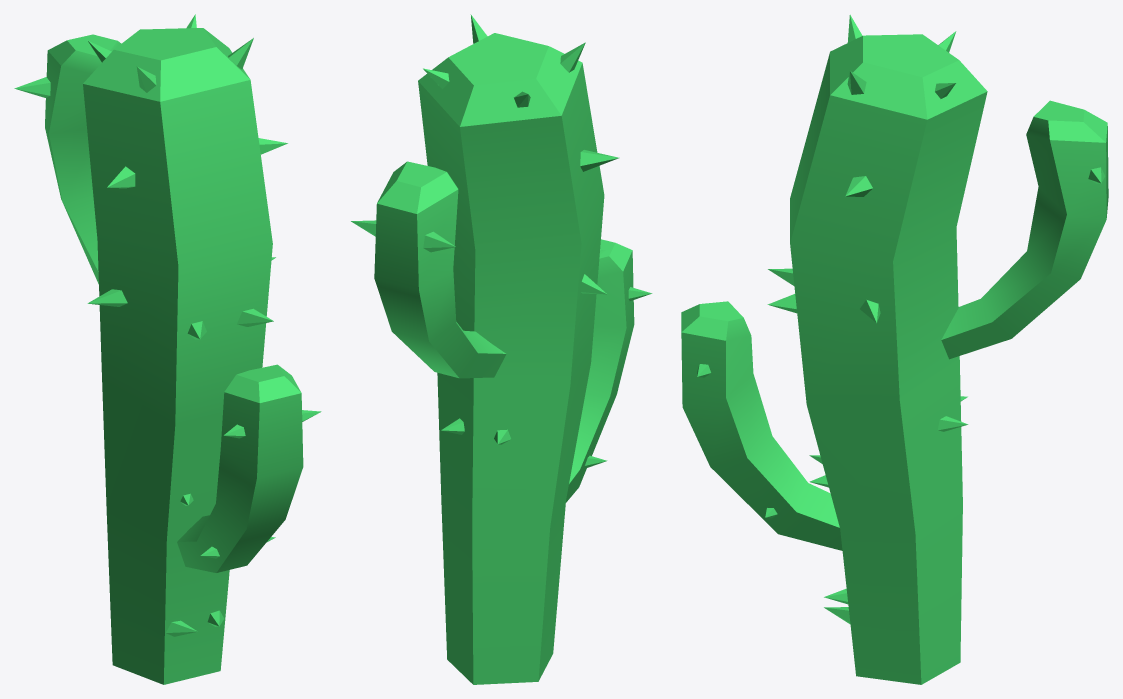
File: Cactus1.fbx
The picture shows the model from 3 angles, left to right: view 1: azimuth 30°, elevation 25°; view 2: azimuth 150°, elevation 25°; view 3: azimuth 270°, elevation 25°; orthographic projection.
Visible parts, largest first — view 1: 1; view 2: 1; view 3: 1.
Part boxes in pixels (x1=…): 1: x1=14, y1=14, x2=321, y2=684; 1: x1=351, y1=14, x2=652, y2=684; 1: x1=681, y1=14, x2=1108, y2=684.
Bounding box in the file's own units: 205 × 651 × 406.
